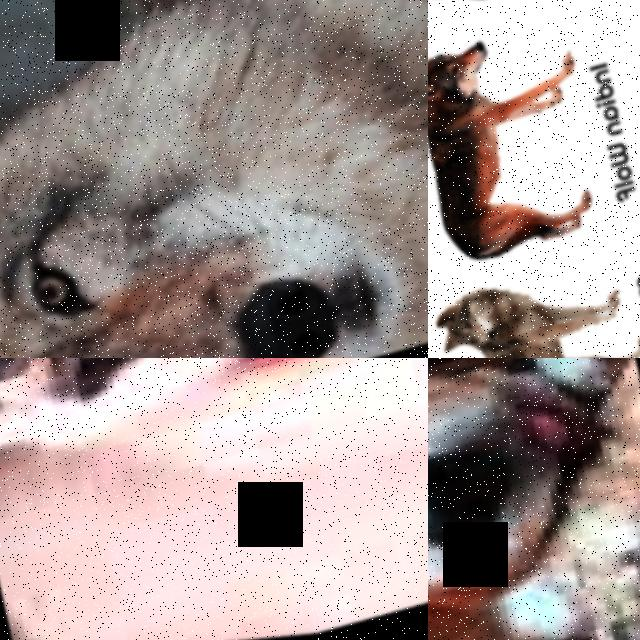dog: (0, 358, 428, 640), (428, 358, 640, 640)
wolf: (0, 0, 428, 358), (428, 11, 613, 297), (428, 224, 640, 358)
